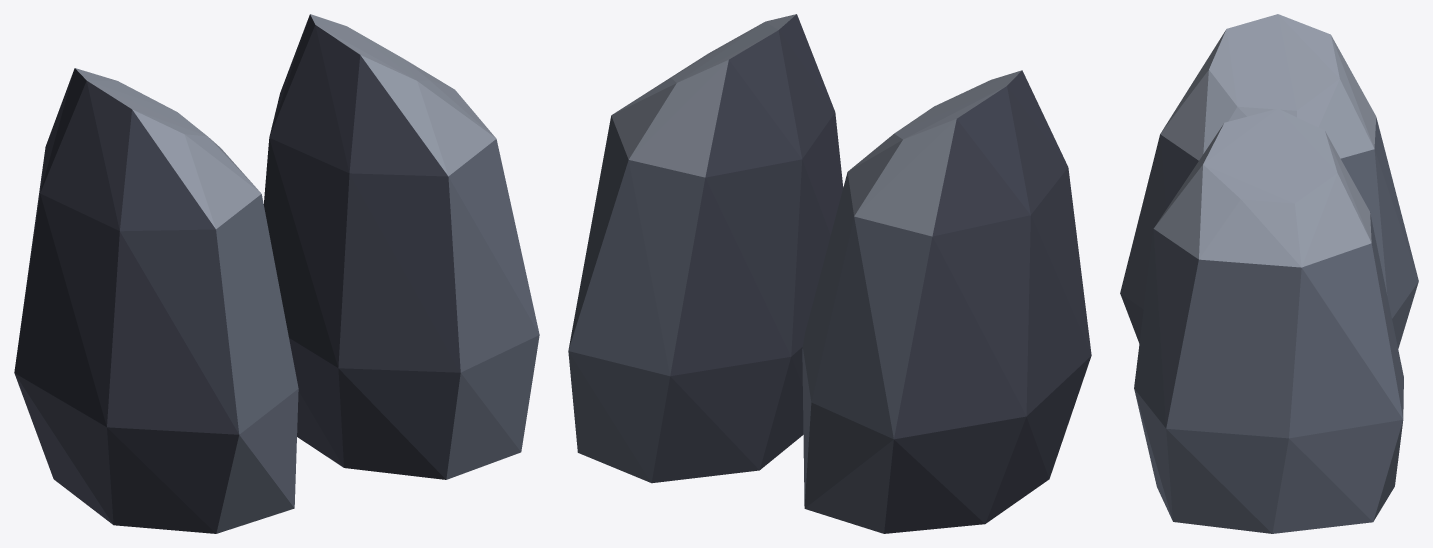
File: TW_ROCK_SPLIT_MASS_A_LOD0.glb
3 views of the same model, side by side, from view 1: azimuth 30°, elevation 25°; view 2: azimuth 150°, elevation 25°; view 3: azimuth 270°, elevation 25° (orthographic). The views are drawn at different scales.
Visible parts, largest first — view 1: TW_ROCK_SPLIT_MASS_A_LOD0; view 2: TW_ROCK_SPLIT_MASS_A_LOD0; view 3: TW_ROCK_SPLIT_MASS_A_LOD0.
Boxes of the visible parts, bbox=[...] form: TW_ROCK_SPLIT_MASS_A_LOD0: bbox=[14, 14, 539, 533]; TW_ROCK_SPLIT_MASS_A_LOD0: bbox=[568, 14, 1091, 533]; TW_ROCK_SPLIT_MASS_A_LOD0: bbox=[1120, 14, 1418, 533].
Size of the model in its own units: 1.26 by 1.1 by 0.8418.
Materials: 1 (1 with a texture image).
